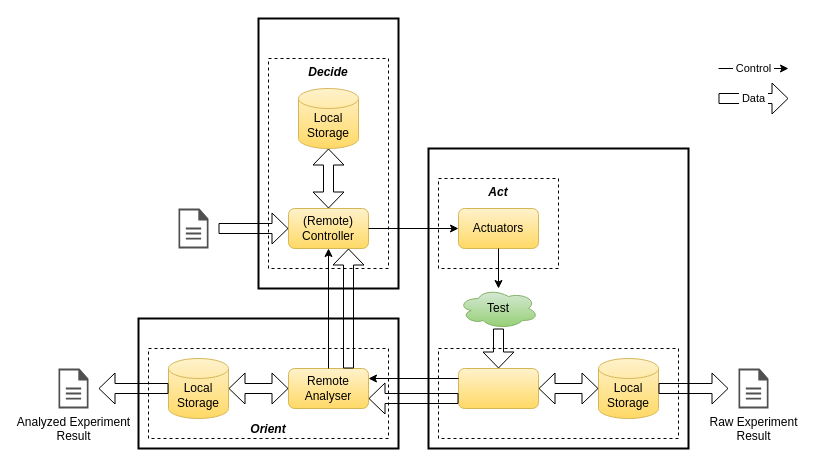
Some shapes in this 815 by 466 pixel diagram are drawn without their labels. The shapes that lost their labels are listed below. From the top down, each one's box as (x1, y1, x2, y2) in pixels, then its label:
(257, 17, 399, 289): Local or Remote Controller
(178, 208, 208, 248): Experiment Plan
(427, 147, 689, 449): Scanning Transmission Electron Microscope
(137, 317, 399, 449): Remote Analysis System
(458, 368, 538, 408): Sensors
(438, 348, 678, 438): Observe
